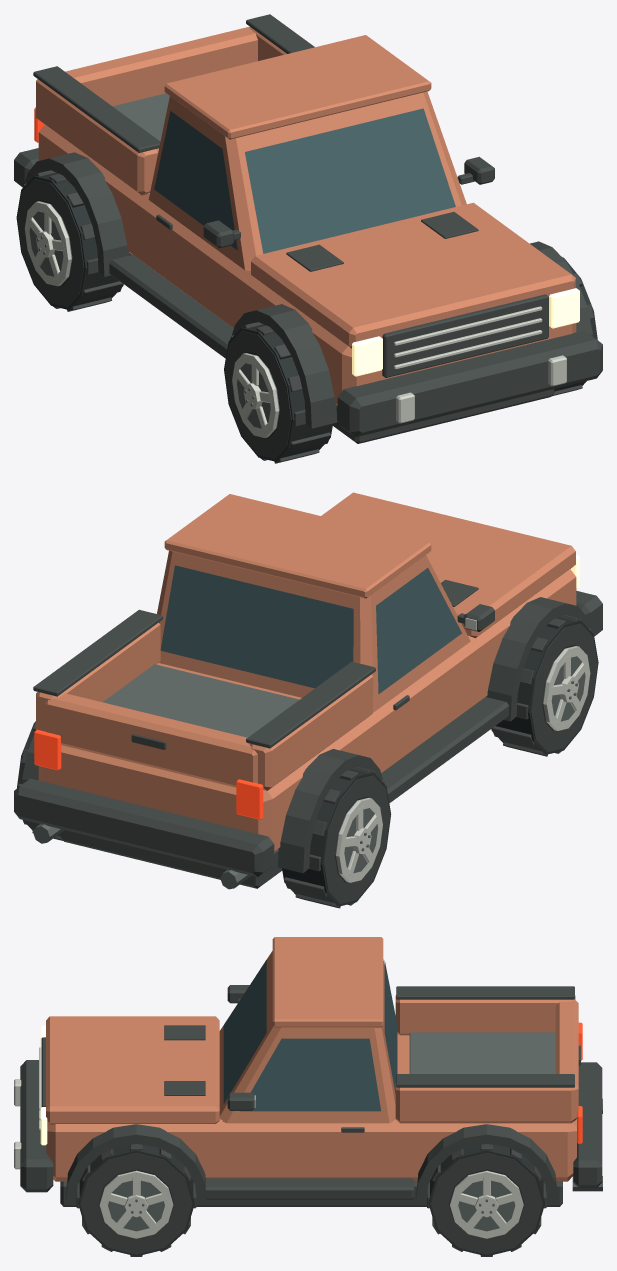
The model's file is brute-runner.gltf.
3 renders of one model, top to bottom at view 1: azimuth 30°, elevation 25°; view 2: azimuth 150°, elevation 25°; view 3: azimuth 270°, elevation 25°, orthographic. The views are drawn at different scales.
Parts seen in each view (by area): view 1: Длинный капот, Лобовое стекло — наклонная плоскость, Крыша, Основной кузов, Передний силовой бампер, Расширитель арки (×3), Стойки и рамки окон, Задний откидной борт, Боковины (×2), Большая решетка, Левое переднее стекло, Левый борт кузова (+13 smaller); view 2: Основной кузов, Заднее стекло — наклонная плоскость, Крыша, Длинный капот, Задний силовой бампер, Задний откидной борт, Стойки и рамки окон, Расширитель арки (×2), Пол грузового отсека, Боковины (×2), Левое переднее стекло, Левый борт кузова (+11 smaller); view 3: Основной кузов, Длинный капот, Крыша, Боковины (×2), Правое переднее стекло, Стойки и рамки окон, Расширитель арки (×2), Правый борт кузова, Пол грузового отсека, Левый борт кузова, Подножка справа, Шина (×2) (+12 smaller).
Part boxes in pixels (<box>): Длинный капот: <box>251,202,575,348</box>; Лобовое стекло — наклонная плоскость: <box>245,108,455,253</box>; Крыша: <box>164,35,431,139</box>; Основной кузов: <box>38,124,576,404</box>; Передний силовой бампер: <box>337,330,602,437</box>; Расширитель арки (×3): <box>24,152,592,428</box>; Стойки и рамки окон: <box>148,91,466,270</box>; Задний откидной борт: <box>65,26,257,106</box>; Боковины (×2): <box>17,179,291,459</box>; Большая решетка: <box>382,294,548,377</box>; Левое переднее стекло: <box>154,111,237,250</box>; Левый борт кузова: <box>36,79,158,195</box>; Основной кузов: <box>38,569,576,851</box>; Заднее стекло — наклонная плоскость: <box>160,565,353,688</box>; Крыша: <box>164,494,431,598</box>; Длинный капот: <box>321,492,575,638</box>; Задний силовой бампер: <box>14,778,274,876</box>; Задний откидной борт: <box>44,693,257,787</box>; Стойки и рамки окон: <box>157,550,470,711</box>; Расширитель арки (×2): <box>278,597,590,873</box>; Пол грузового отсека: <box>103,664,299,737</box>; Боковины (×2): <box>323,623,597,903</box>; Левое переднее стекло: <box>376,568,461,693</box>; Левый борт кузова: <box>249,674,373,790</box>; Основной кузов: <box>46,1034,576,1181</box>; Длинный капот: <box>46,1016,219,1124</box>; Крыша: <box>272,937,383,1027</box>; Боковины (×2): <box>80,1153,542,1254</box>; Правое переднее стекло: <box>240,1038,380,1111</box>; Стойки и рамки окон: <box>219,951,397,1123</box>; Расширитель арки (×2): <box>66,1124,557,1203</box>; Правый борт кузова: <box>395,1083,575,1123</box>; Пол грузового отсека: <box>409,1032,555,1073</box>; Левый борт кузова: <box>395,995,575,1035</box>; Подножка справа: <box>205,1178,414,1199</box>; Шина (×2): <box>78,1145,545,1256</box>.
Size of the model in its own units: 2.6 by 1.96 by 4.84.
